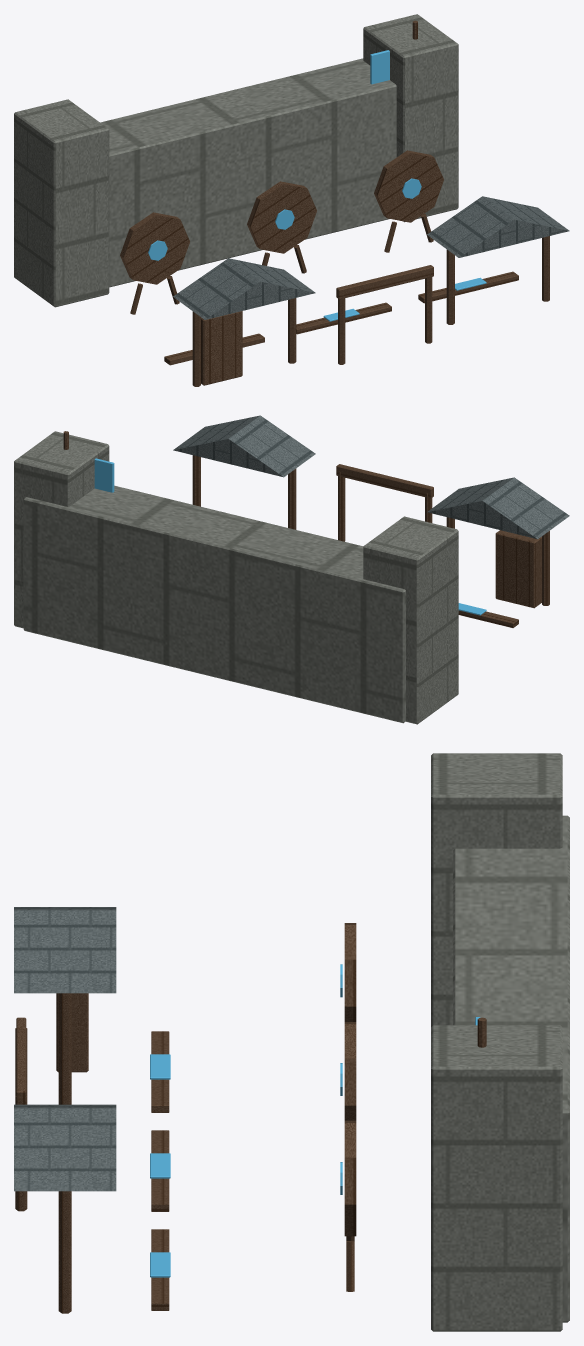
Rendered from edificio-b_000-e2-DSbmW7Fe.glb.
3 views of the same model, one above another, from view 1: azimuth 30°, elevation 25°; view 2: azimuth 150°, elevation 25°; view 3: azimuth 270°, elevation 25° (orthographic). The views are drawn at different scales.
Parts seen in each view (by area): view 1: envolvente_arqueria, team_color; view 2: envolvente_arqueria, team_color; view 3: envolvente_arqueria, team_color.
Boxes of the visible parts, <box> form: envolvente_arqueria: <box>14,14,569,386</box>; team_color: <box>148,50,486,321</box>; envolvente_arqueria: <box>14,415,569,724</box>; team_color: <box>94,458,486,615</box>; envolvente_arqueria: <box>14,753,569,1331</box>; team_color: <box>150,964,480,1277</box>.
Bounding box in the file's own units: 51 × 22.09 × 38.
2 materials, 1 textured.
